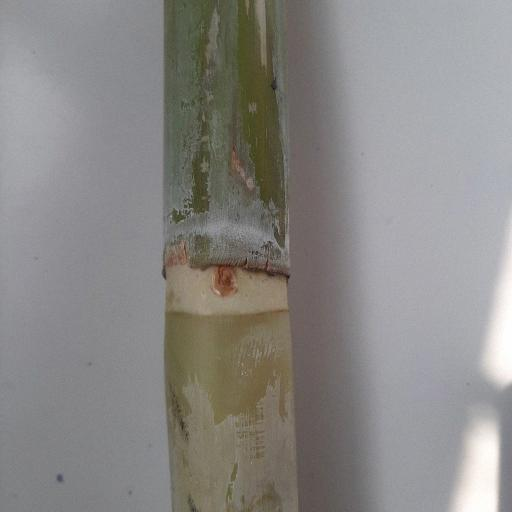Damage_Bud: (212, 266, 241, 297)
